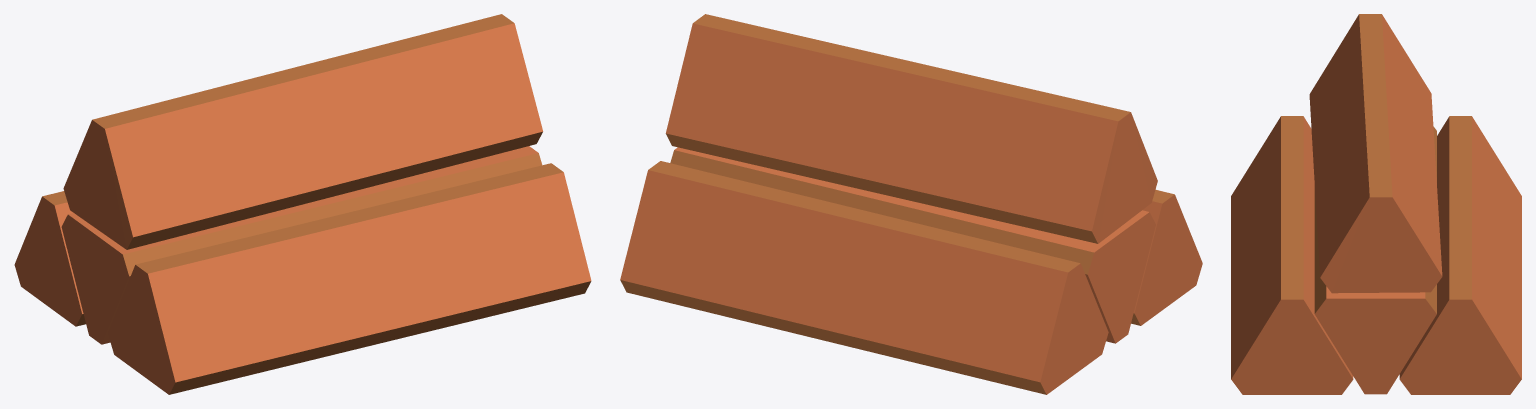
Rendered from SM_Cooper_ingots.glb.
3 renders of one model, left to right at view 1: azimuth 30°, elevation 25°; view 2: azimuth 150°, elevation 25°; view 3: azimuth 270°, elevation 25°, orthographic. The views are drawn at different scales.
Visible parts, largest first — view 1: SM_Cooper_ingots; view 2: SM_Cooper_ingots; view 3: SM_Cooper_ingots.
Part boxes in pixels (box(x1,y1,x2,y2)): SM_Cooper_ingots: box(14, 14, 591, 394); SM_Cooper_ingots: box(620, 14, 1202, 394); SM_Cooper_ingots: box(1231, 14, 1521, 394).
Bounding box in the file's own units: 0.6 × 0.3 × 0.4.
Materials: 1 (1 with a texture image).
